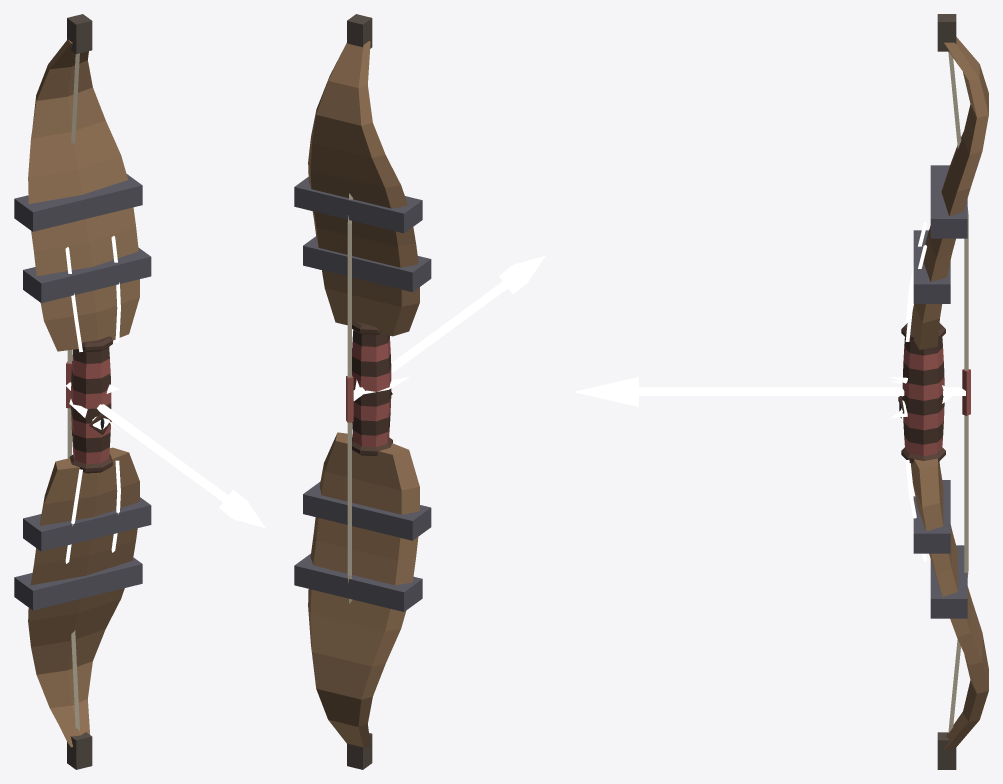
File: bow-war.glb
3 renders of one model, left to right at view 1: azimuth 30°, elevation 25°; view 2: azimuth 150°, elevation 25°; view 3: azimuth 270°, elevation 25°, orthographic.
Visible parts, largest first — view 1: bow-war, pulse_arrow, string, pulse_vein; view 2: bow-war, pulse_arrow, string; view 3: bow-war, pulse_arrow, string, pulse_vein.
Boxes of the visible parts, left/top/right/bottom form: bow-war: left=14, top=14, right=151, bottom=769; pulse_arrow: left=66, top=382, right=265, bottom=527; string: left=66, top=53, right=79, bottom=730; pulse_vein: left=65, top=236, right=120, bottom=563; bow-war: left=294, top=14, right=431, bottom=769; pulse_arrow: left=353, top=256, right=545, bottom=400; string: left=346, top=193, right=353, bottom=603; bow-war: left=901, top=14, right=988, bottom=769; pulse_arrow: left=574, top=377, right=965, bottom=418; string: left=948, top=51, right=970, bottom=733; pulse_vein: left=905, top=222, right=927, bottom=561.
Bounding box in the file's own units: 0.233 × 1.51 × 0.7594.
